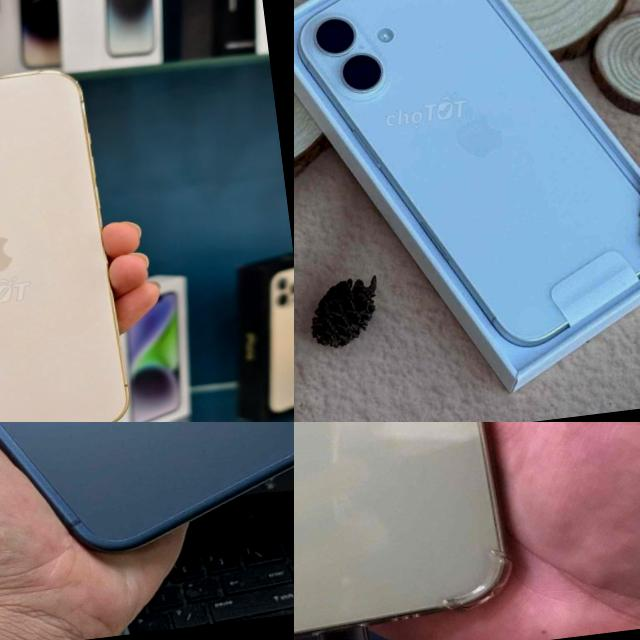gen_12_13: (0, 60, 137, 422), (294, 422, 520, 640)
gen_17: (294, 0, 640, 370), (0, 422, 294, 583)
